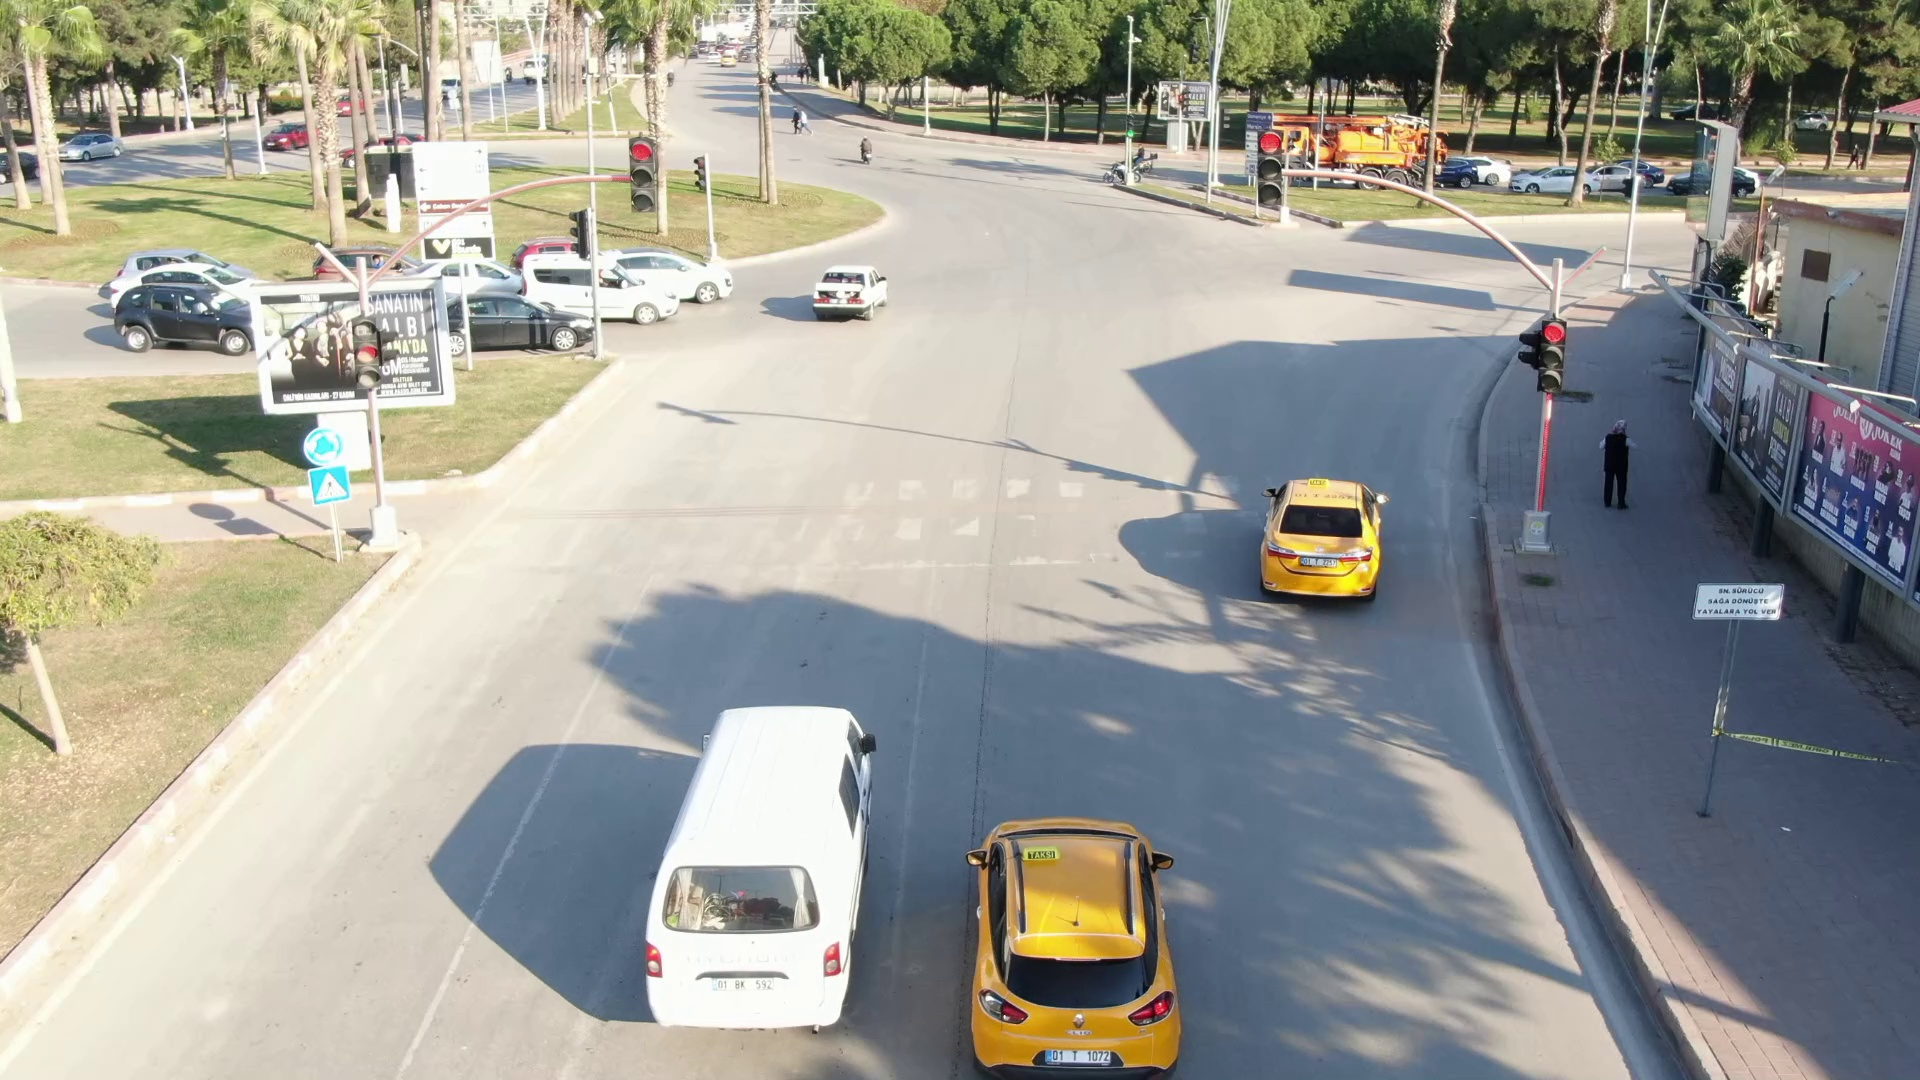car: (606, 706, 904, 1029), (957, 784, 1202, 1068), (1241, 468, 1394, 608), (104, 272, 253, 361), (514, 247, 684, 321), (447, 290, 598, 357), (602, 243, 731, 300), (796, 257, 898, 327)
person: (1590, 412, 1641, 517)
